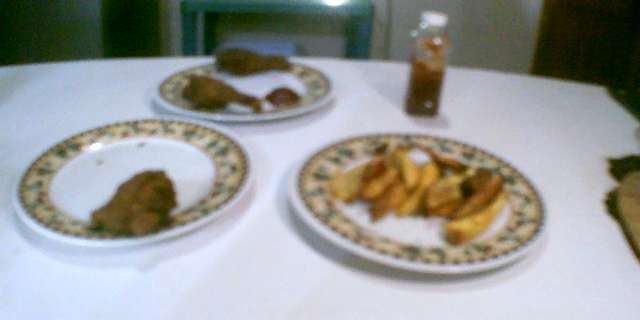chicken: (86, 163, 182, 241), (179, 70, 266, 119), (214, 44, 295, 79)
ketchup_bottle: (393, 3, 460, 122)
ketchup_portion: (258, 82, 304, 111)
potatoe_fries: (329, 138, 512, 246)
